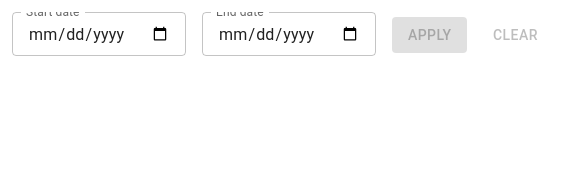
it: DateRangeControls › validates that start date must be before or equal to end date
Step 1. Type "2024-03-01" into the date field labelled "Start date" → (99, 34), box [12,12,186,56]
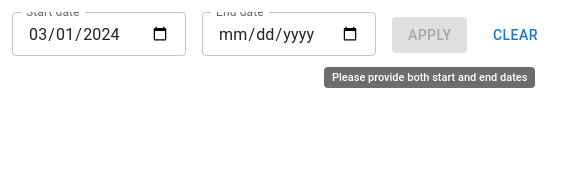
Step 2. Type "2024-02-01" into the date field labelled "End date" → (289, 34), box [202,12,376,56]
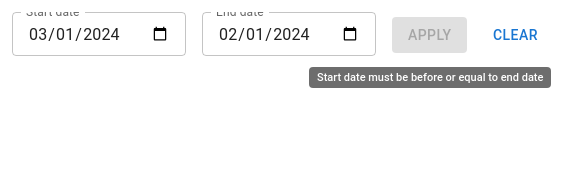
Expected: the button "Apply" is disabled, [392,17,467,53]
Expected: the text "Start date must be before or equal to end date" is shown, [309,67,551,88]
